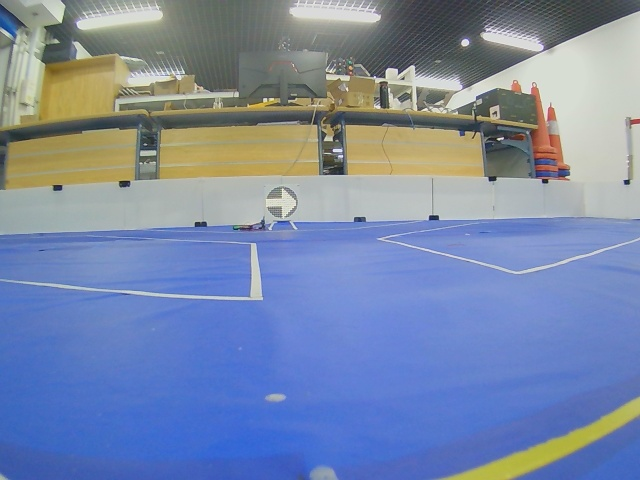right_yellow: (266, 186, 298, 220)
